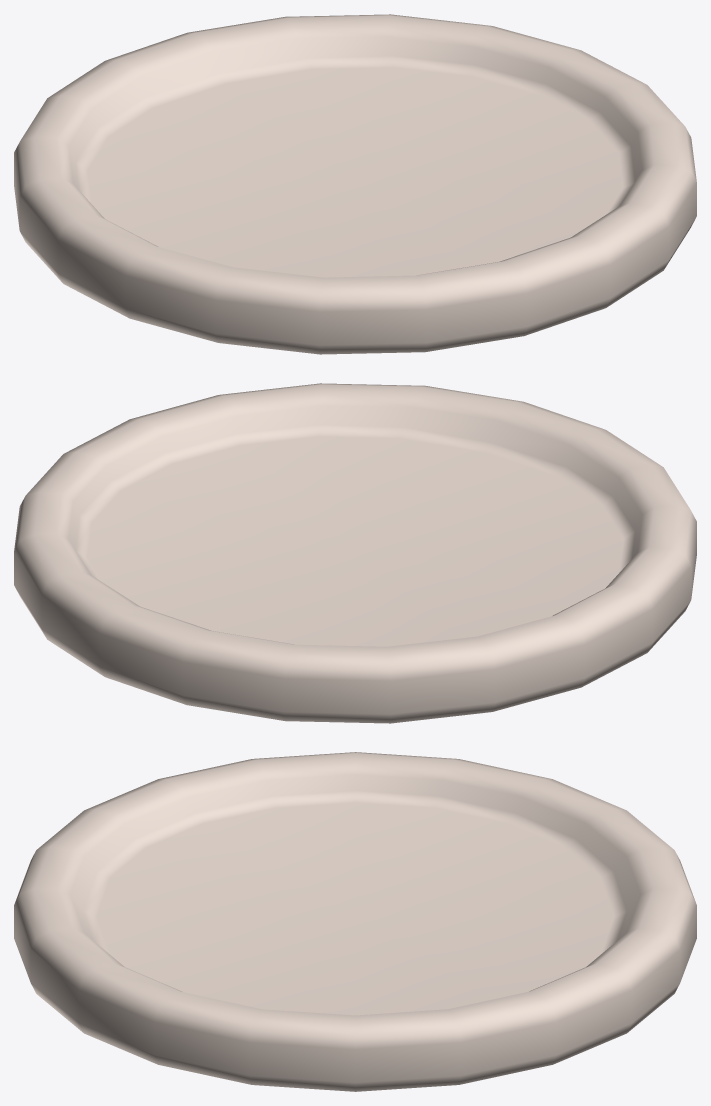
Rendered from Plate_1.glb.
3 renders of one model, top to bottom at view 1: azimuth 30°, elevation 25°; view 2: azimuth 150°, elevation 25°; view 3: azimuth 270°, elevation 25°, orthographic.
Visible parts, largest first — view 1: Plate_1; view 2: Plate_1; view 3: Plate_1.
Boxes of the visible parts, x1,y1,x2,y2 form: Plate_1: [14, 14, 696, 354]; Plate_1: [14, 383, 696, 723]; Plate_1: [14, 752, 696, 1091].
Bounding box in the file's own units: 0.4679 × 0.0711 × 0.4679.
Materials: 1 (1 with a texture image).
